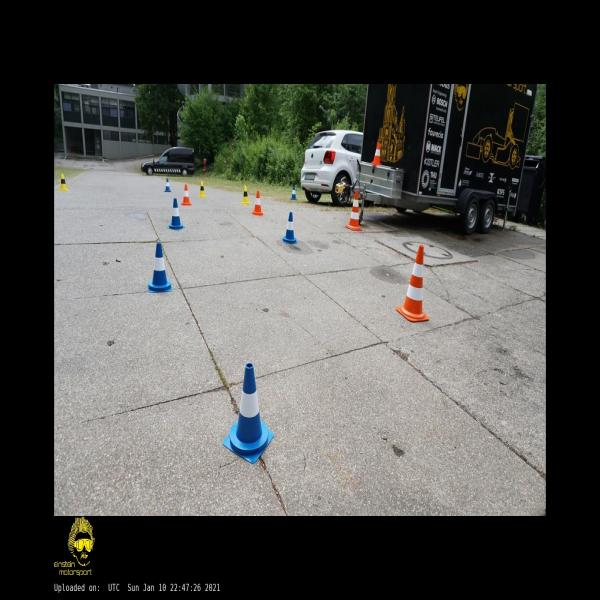blue_cone: (222, 363, 274, 464), (148, 242, 172, 292), (168, 199, 184, 229), (283, 212, 296, 243), (164, 178, 171, 192), (290, 185, 296, 200)
large_orange_cone: (396, 246, 429, 322), (346, 190, 361, 230)
orange_cone: (252, 191, 263, 215), (181, 185, 192, 206), (371, 143, 382, 164)
yellow_cone: (60, 174, 68, 191), (242, 186, 249, 204), (199, 181, 206, 197)
